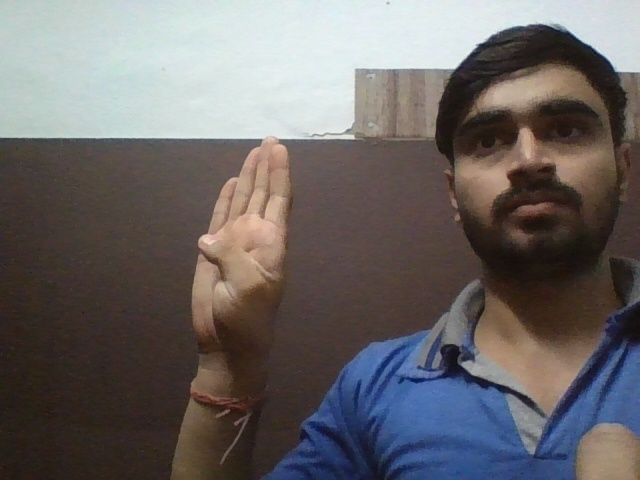B: (186, 137, 301, 352)
